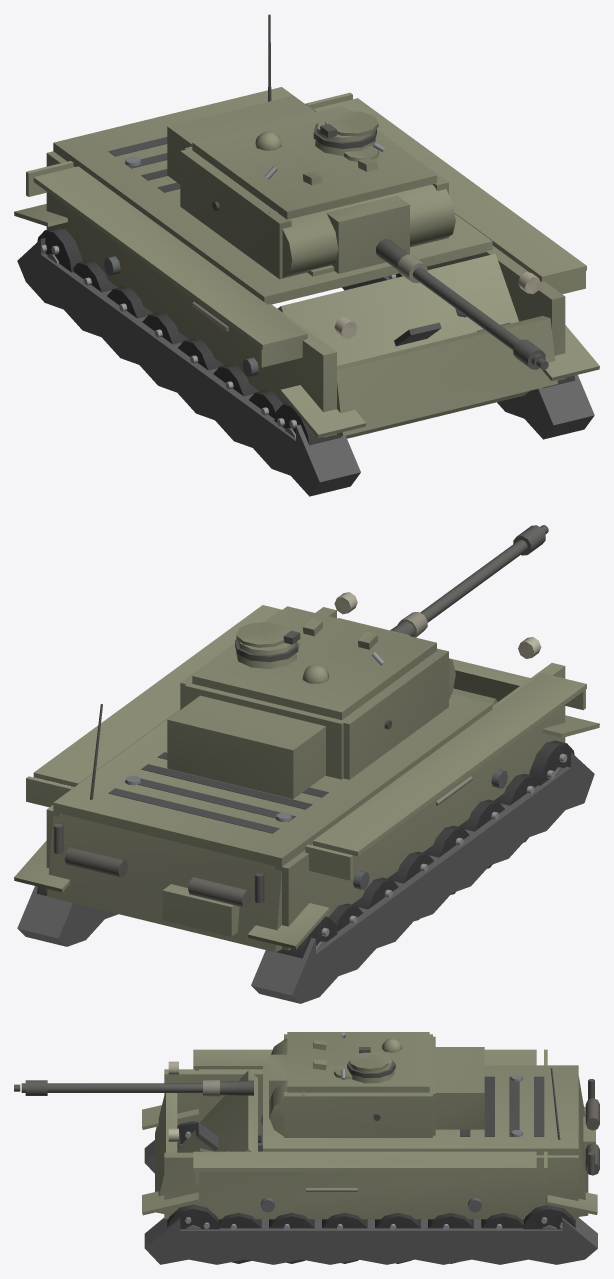
File: m48patton.glb
3 views of the same model, one above another, from view 1: azimuth 30°, elevation 25°; view 2: azimuth 150°, elevation 25°; view 3: azimuth 270°, elevation 25° (orthographic). The views are drawn at different scales.
Parts seen in each view (by area): view 1: hullSide, tracks, hullTop, turretRoof, lowerPlate, glacis, turretFront, turretSide, mantlet, barrel, wheel7, wheel6 (+5 smaller); view 2: hullSide, hullTop, tracks, hullRear, turretRoof, turretFront, turretSide, barrel, turretRear, lowerPlate, wheel6, wheel7 (+5 smaller); view 3: hullSide, tracks, hullTop, turretRoof, turretSide, turretFront, glacis, barrel, hullRear, lowerPlate, wheel14, wheel15 (+8 smaller).
Part boxes in pixels (x1,y1,x2,y2): hullSide: (26,92,586,437); tracks: (14,204,599,496); hullTop: (53,87,492,304); turretRoof: (192,106,436,219); lowerPlate: (337,316,557,436); glacis: (277,253,529,438); turretFront: (167,96,455,278); turretSide: (180,109,448,279); mantlet: (326,195,409,273); barrel: (376,239,548,369); wheel7: (37,227,82,272); wheel6: (274,403,341,445); hullSide: (26,592,586,950); hullTop: (53,694,492,867); tracks: (14,715,599,1003); hullRear: (47,704,281,952); turretRoof: (192,606,436,720); turretFront: (167,657,455,798); turretSide: (180,610,448,779); barrel: (390,525,548,637); turretRear: (184,680,347,779); lowerPlate: (449,658,530,701); wheel6: (529,740,574,785); wheel7: (276,916,337,958); hullSide: (164,1049,578,1219); tracks: (142,1105,597,1264); hullTop: (263,1065,578,1155); turretRoof: (287,1032,429,1092); turretSide: (284,1034,432,1137); turretFront: (269,1040,484,1136); glacis: (178,1070,257,1152); barrel: (14,1079,253,1096); hullRear: (550,1068,599,1216); lowerPlate: (155,1093,177,1213); wheel14: (167,1204,219,1229); wheel15: (523,1205,575,1229).
Size of the model in its own units: 4.33 by 3.04 by 9.05.
